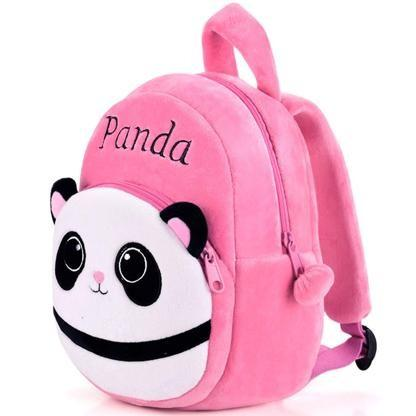not trash: (47, 1, 376, 408)
